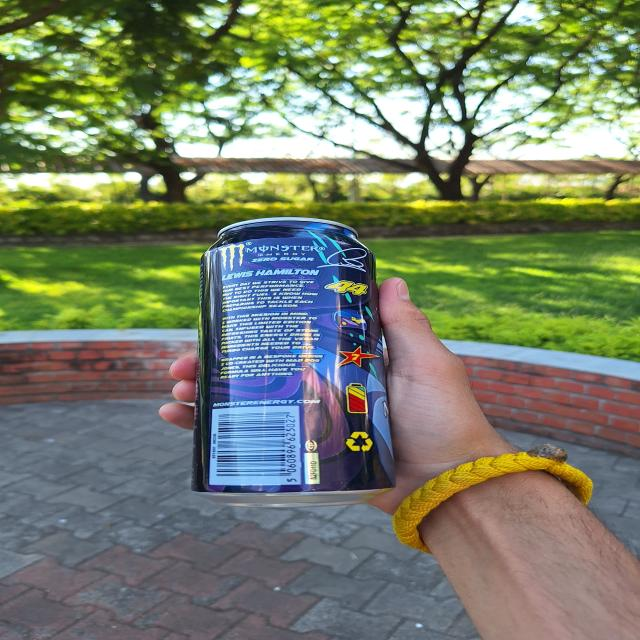Monster LH44: (178, 215, 410, 504)
